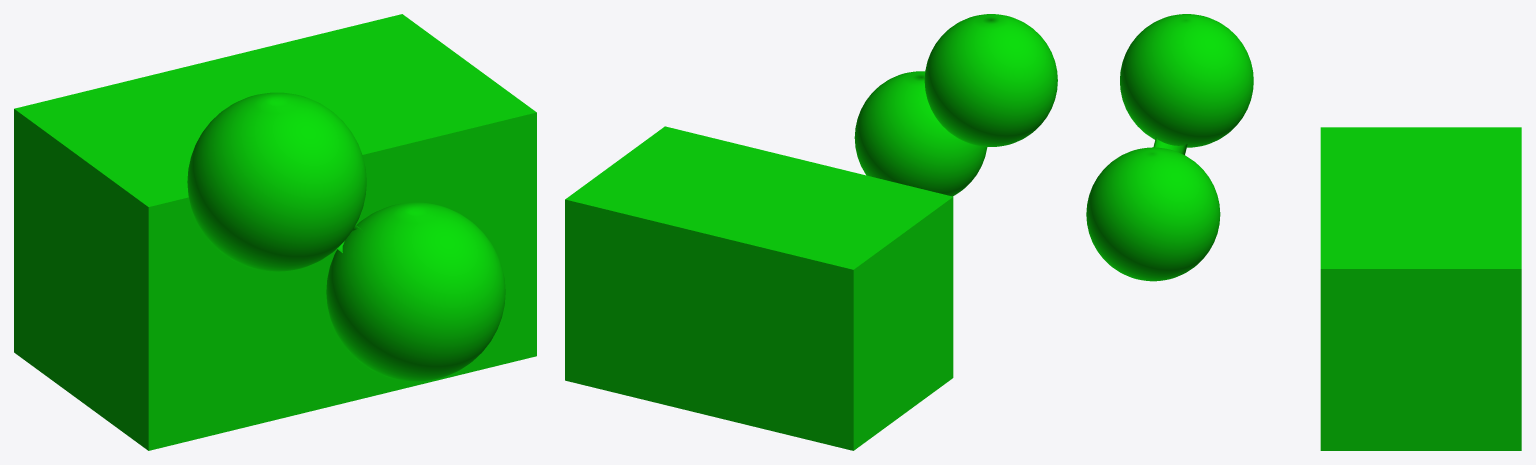
Rendered from luca.glb.
3 renders of one model, left to right at view 1: azimuth 30°, elevation 25°; view 2: azimuth 150°, elevation 25°; view 3: azimuth 270°, elevation 25°, orthographic. The views are drawn at different scales.
Visible parts, largest first — view 1: face-XY1-node, SphNode-node (×2), face-Top-node, face-YZ2-node; view 2: face-XY2-node, face-Top-node, SphNode-node (×2), face-YZ2-node; view 3: face-YZ1-node, face-Top-node, SphNode-node (×2).
Part boxes in pixels (box(x1,y1,x2,y2)): face-XY1-node: box(148, 112, 536, 450); SphNode-node (×2): box(187, 92, 505, 381); face-Top-node: box(14, 14, 536, 206); face-YZ2-node: box(14, 109, 148, 450); face-XY2-node: box(565, 199, 853, 450); face-Top-node: box(565, 126, 952, 269); SphNode-node (×2): box(854, 14, 1057, 196); face-YZ2-node: box(853, 197, 953, 450); face-YZ1-node: box(1320, 269, 1521, 450); face-Top-node: box(1320, 127, 1521, 268); SphNode-node (×2): box(1086, 14, 1253, 281).
Size of the model in its own units: 11 by 10 by 13.
